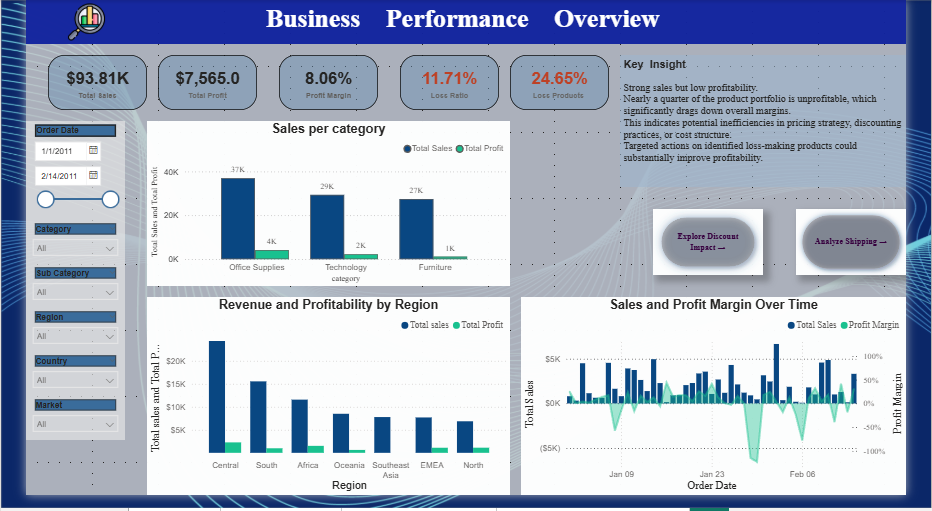

The dashboard page shown, as its layout file describes it:
{"tool":"powerbi","page":{"name":"Overview","canvas":[1280,720],"ordinal":0},"visuals":[{"type":"card","fields":{"Values":["Sum(DATASET.profit)"]},"box":[192,80,144,80],"z":0},{"type":"card","fields":{"Values":["Sum(DATASET.sales)"]},"box":[32,80,144,80],"z":1000},{"type":"textbox","box":[0,0,1280,64],"z":2000},{"type":"card","fields":{"Values":["DATASET.Profit Margin"]},"box":[368,80,144,80],"z":3000},{"type":"card","fields":{"Values":["DATASET.Loss Ratio"]},"box":[544,80,144,80],"z":4000},{"type":"slicer","fields":{"Values":["DATASET.order_date"]},"box":[0,176,144,144],"z":5000},{"type":"lineClusteredColumnComboChart","title":"Sales and Profit Margin Over Time","fields":{"Category":["DATASET.order_date"],"Y":["Sum(DATASET.sales)"],"Y2":["DATASET.Profit Margin"]},"box":[720,432,560,288],"z":6000},{"type":"clusteredColumnChart","title":"Sales per category","fields":{"Category":["DATASET.category"],"Y":["Sum(DATASET.sales)","Sum(DATASET.profit)"]},"box":[176,176,528,240],"z":7000},{"type":"slicer","fields":{"Values":["DATASET.country"]},"box":[0,512,144,64],"z":8000},{"type":"slicer","fields":{"Values":["DATASET.sub_category"]},"box":[0,384,144,64],"z":9000},{"type":"lineClusteredColumnComboChart","title":"Revenue and Profitability by Region","fields":{"Category":["DATASET.region"],"Y":["Sum(DATASET.sales)","Sum(DATASET.profit)"]},"box":[176,432,528,288],"z":10000},{"type":"actionButton","title":"Go to Discount Analysis","box":[912,304,160,96],"z":11000},{"type":"actionButton","title":"Go to Discount Analysis","box":[1120,304,160,96],"z":12000},{"type":"textbox","box":[864,80,416,192],"z":13000},{"type":"image","box":[0,0,176,64],"z":14000},{"type":"card","fields":{"Values":["DATASET.Loss Products %"]},"box":[704,80,144,80],"z":15000},{"type":"slicer","fields":{"Values":["DATASET.category"]},"box":[0,320,144,64],"z":16000},{"type":"slicer","fields":{"Values":["DATASET.region"]},"box":[0,448,144,64],"z":17000},{"type":"slicer","fields":{"Values":["DATASET.market"]},"box":[0,576,144,64],"z":18000}]}

Visuals, with their boxes in screenshot pixels (x1, y1, x2, y2), scaled from the page's 1280x720 canvas onto the 932x511 screenshot:
card - Sum(DATASET.profit): detection(140, 57, 245, 114)
card - Sum(DATASET.sales): detection(23, 57, 128, 114)
textbox: detection(0, 0, 931, 45)
card - DATASET.Profit Margin: detection(268, 57, 373, 114)
card - DATASET.Loss Ratio: detection(396, 57, 501, 114)
slicer - DATASET.order_date: detection(0, 125, 105, 227)
"Sales and Profit Margin Over Time" lineClusteredColumnComboChart: detection(524, 307, 931, 510)
"Sales per category" clusteredColumnChart: detection(128, 125, 513, 295)
slicer - DATASET.country: detection(0, 363, 105, 409)
slicer - DATASET.sub_category: detection(0, 273, 105, 318)
"Revenue and Profitability by Region" lineClusteredColumnComboChart: detection(128, 307, 513, 510)
"Go to Discount Analysis" actionButton: detection(664, 216, 781, 284)
"Go to Discount Analysis" actionButton: detection(816, 216, 931, 284)
textbox: detection(629, 57, 931, 193)
image: detection(0, 0, 128, 45)
card - DATASET.Loss Products %: detection(513, 57, 617, 114)
slicer - DATASET.category: detection(0, 227, 105, 273)
slicer - DATASET.region: detection(0, 318, 105, 363)
slicer - DATASET.market: detection(0, 409, 105, 454)
